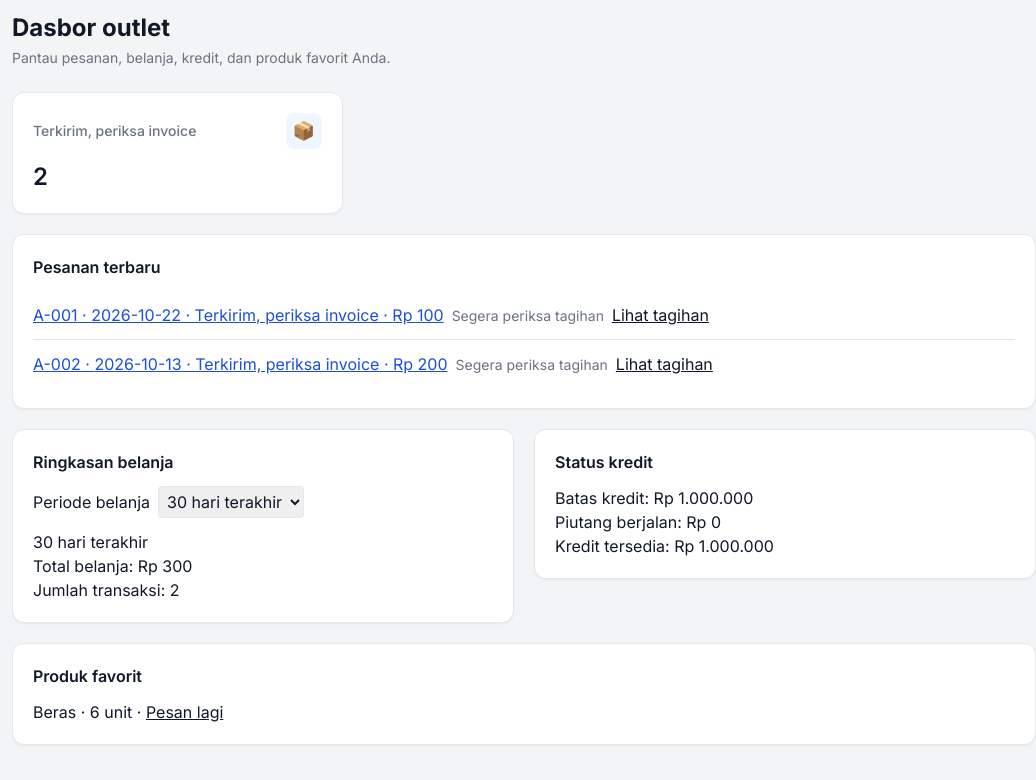
Test case: period switching recomputes shopping from cached orders without refetching
The image size is (1036, 780).
Expected: the element with test id "outlet-shopping-summary" shows "Rp 300", [138,556,192,576]
Switch to 7 hari - only order 1 (1d ago) in window
Select "7 hari terakhir" in the dropdown labelled "Periode belanja" at (231, 502), box [158,486,304,518]
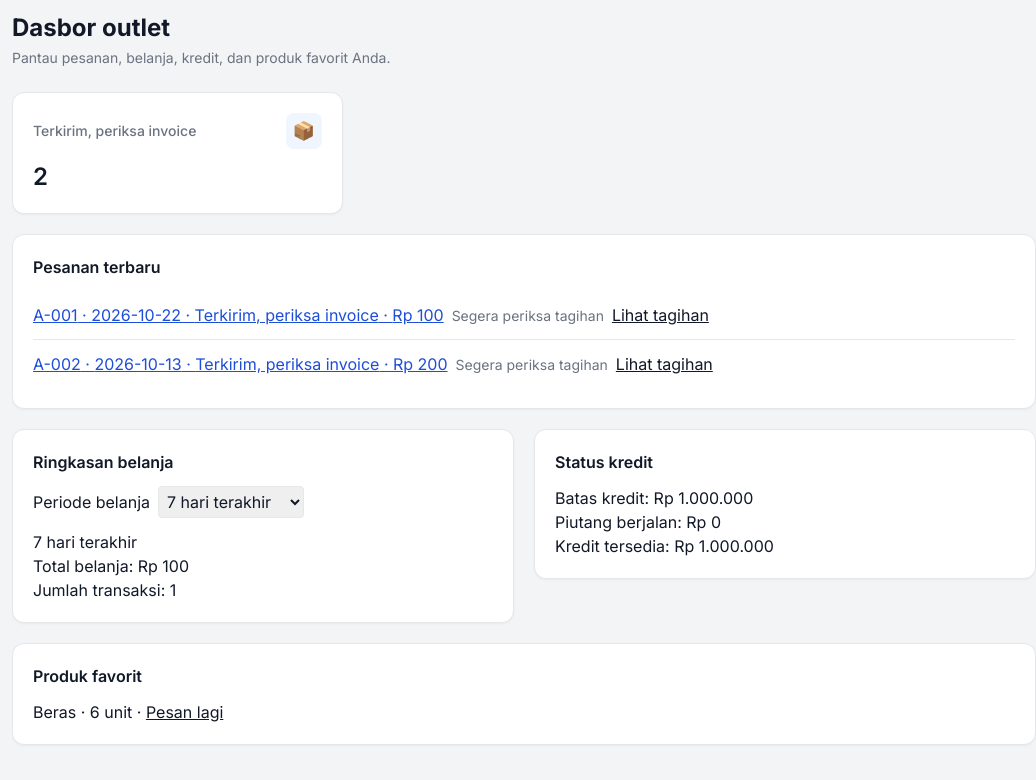
Now the element with test id "outlet-shopping-summary" shows "Rp 100", box [138,556,189,576]
Switch to 90 hari - both in window again
Select "90 hari terakhir" in the dropdown labelled "Periode belanja" at (231, 502), box [158,486,304,518]
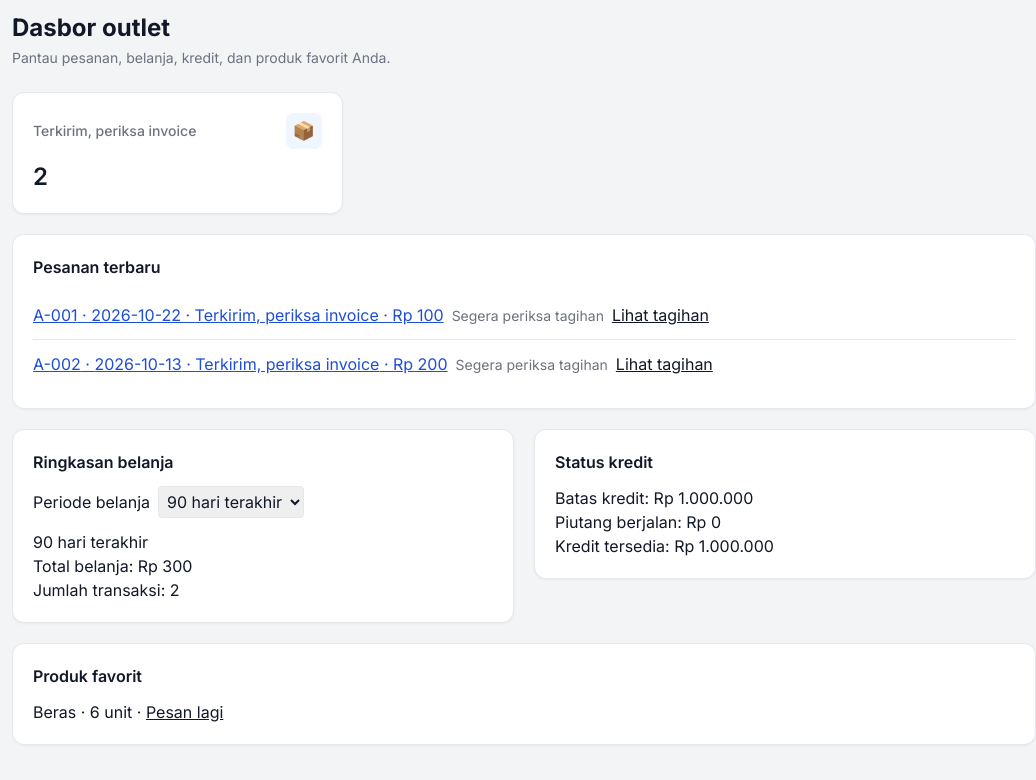
Now the element with test id "outlet-shopping-summary" shows "Rp 300", box [138,556,192,576]
